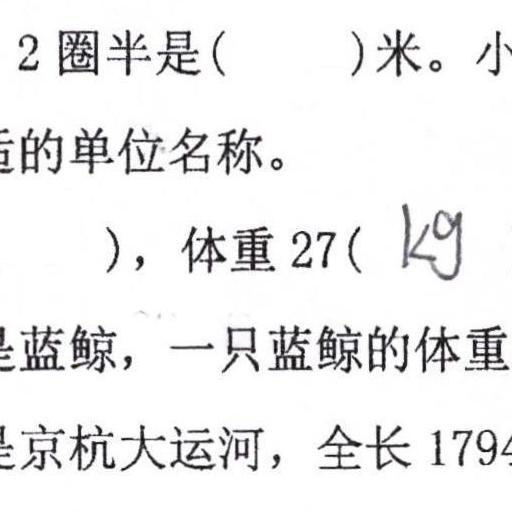ans: (392, 196, 465, 282)
